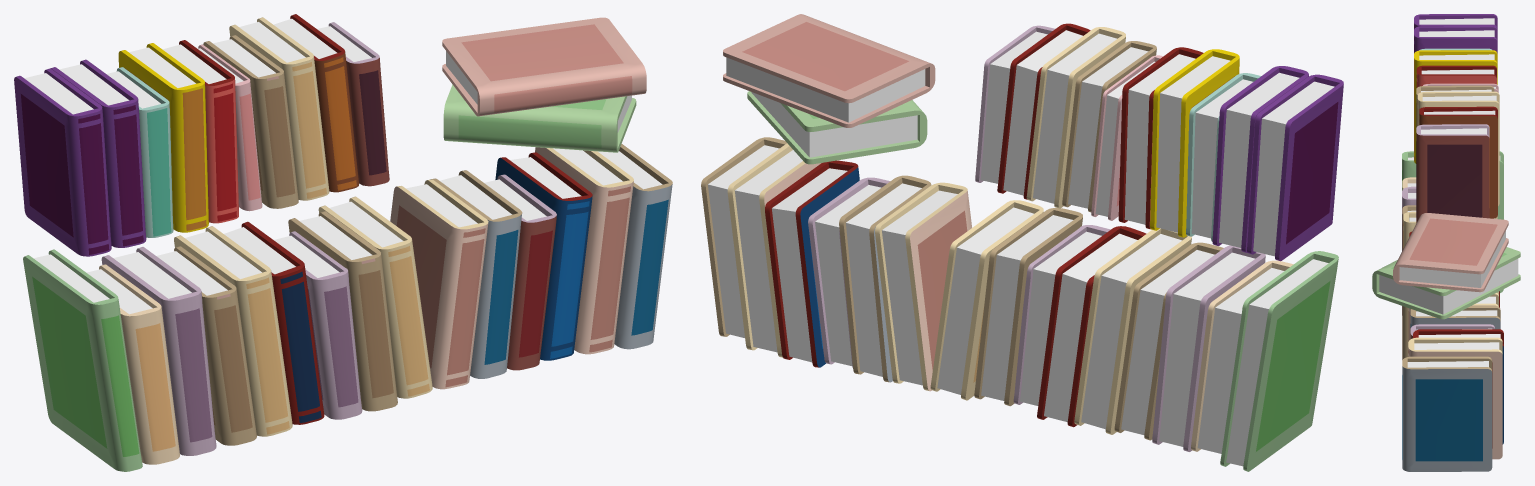
The model's file is book15.003.fbx.
The picture shows the model from 3 angles, left to right: view 1: azimuth 30°, elevation 25°; view 2: azimuth 150°, elevation 25°; view 3: azimuth 270°, elevation 25°; orthographic projection. The views are drawn at different scales.
Parts seen in each view (by area): view 1: book15.003; view 2: book15.003; view 3: book15.003.
Boxes of the visible parts, box(x1,y1,x2,y2) form: book15.003: box(14, 14, 672, 471); book15.003: box(701, 14, 1343, 471); book15.003: box(1372, 14, 1520, 471).
Size of the model in its own units: 1.2 by 0.6901 by 0.361.
